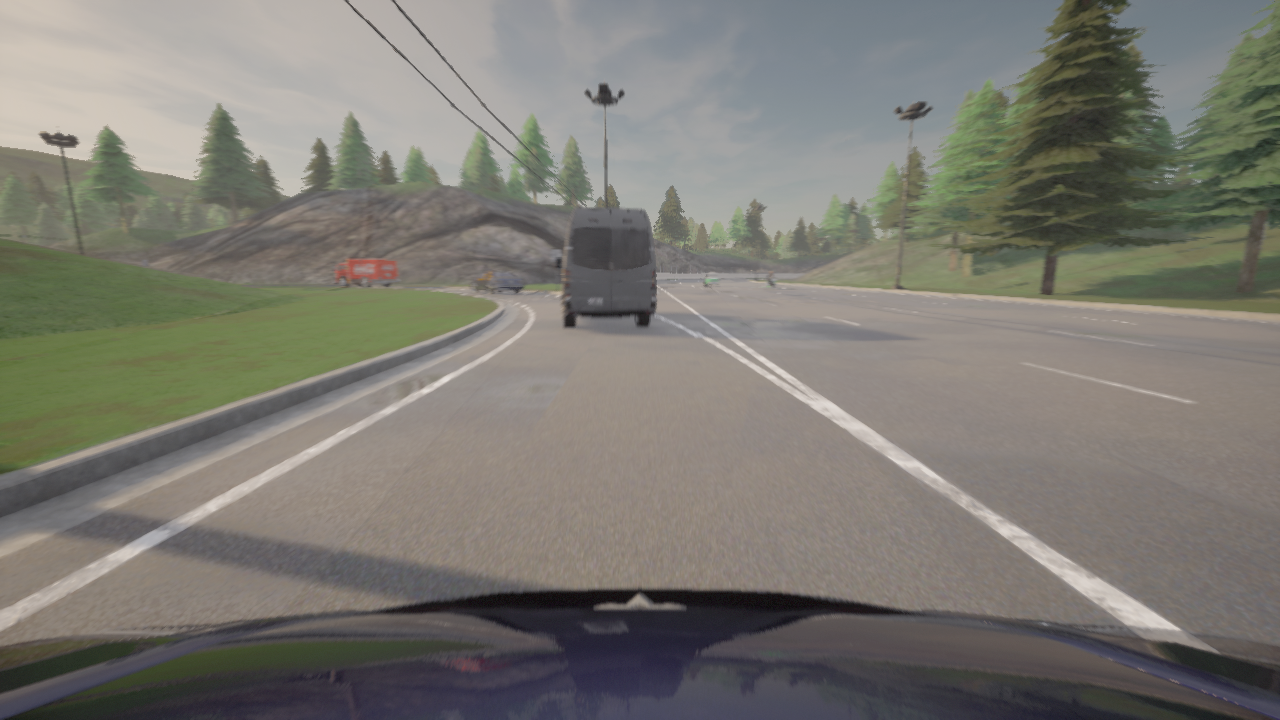cyclist: (0, 588, 1279, 719), (555, 207, 656, 327), (332, 259, 399, 286), (470, 271, 524, 294), (704, 272, 719, 286), (767, 274, 775, 288)
